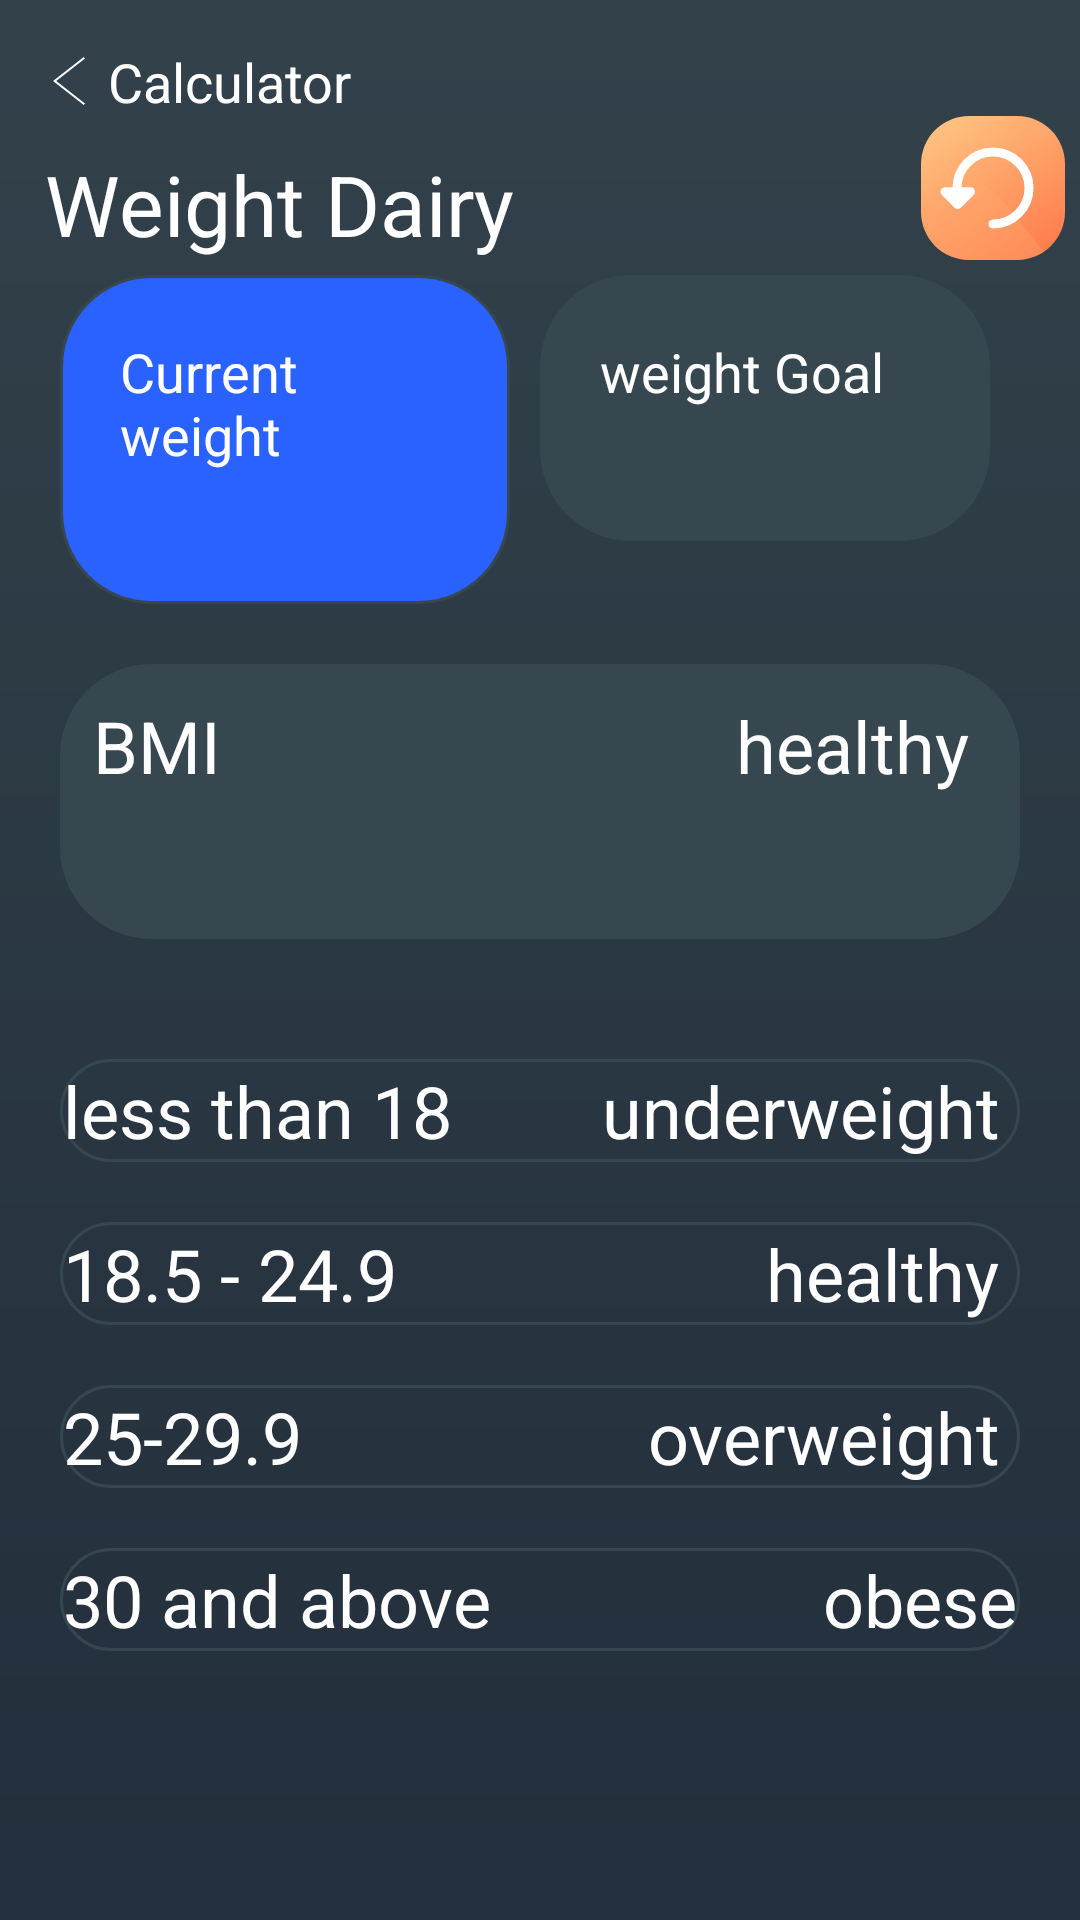

Icons on this 1080w x 1920h Android screen, each with the point to tap as (x,y):
refresh: (993,188)
